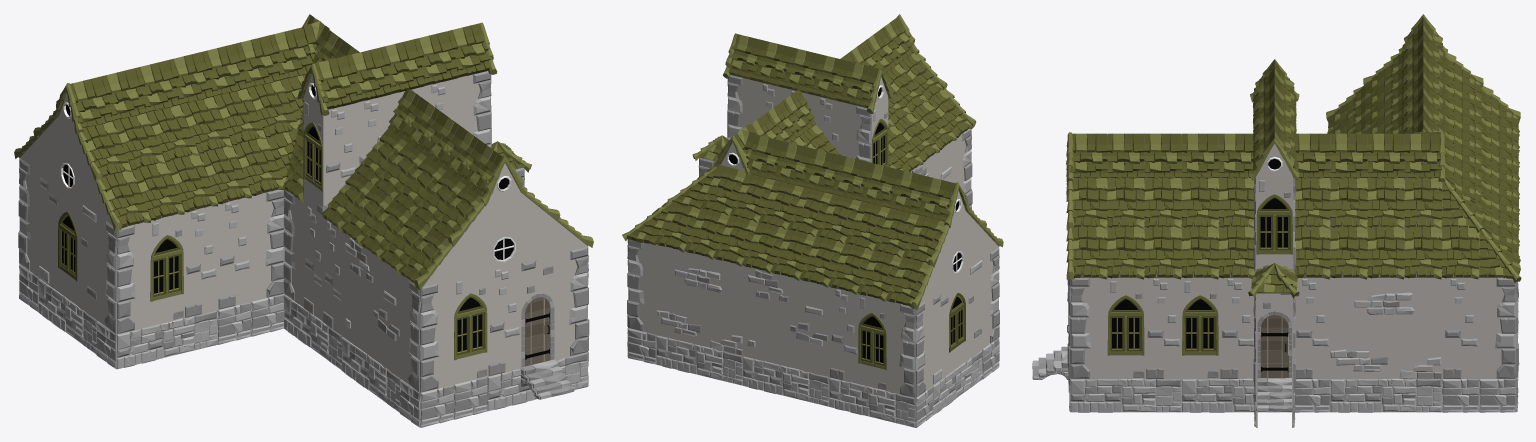
The model's file is hOUSE_12.glb.
3 renders of one model, left to right at view 1: azimuth 30°, elevation 25°; view 2: azimuth 150°, elevation 25°; view 3: azimuth 270°, elevation 25°, orthographic. The views are drawn at different scales.
Visible parts, largest first — view 1: WINDOW_02_2, WALL_01_2, WINDOW_01_02, WALL_06_16, WALL_05_7, WALL_07_2, FOUNDATION_03_10, WALL_06_3, WALL_05_2, WALL_06_17, DOOR_01_3, WINDOW_01_07 (+78 smaller); view 2: WALL_03_3, WALL_01_3, WINDOW_02_2, WALL_06_18, FOUNDATION_03_7, FOUNDATION_03_8, FOUNDATION_03_6, WINDOW_01_08, WALL_07_9, WALL_05_9, WALL_07_8, WALL_07_3 (+62 smaller); view 3: WALL_03_2, FOUNDATION_03_5, FOUNDATION_03_3, WINDOW_01_03, WALL_06_4, WALL_06_20, WINDOW_01_04, WALL_05_3, WALL_07_10, WALL_06_15, WALL_06_5, WINDOW_01_05 (+62 smaller).
Boxes of the visible parts, left/top/right/bottom form: WINDOW_02_2: left=39, top=172, right=97, bottom=319; WALL_01_2: left=342, top=232, right=400, bottom=377; WINDOW_01_02: left=453, top=271, right=487, bottom=384; WALL_06_16: left=183, top=206, right=217, bottom=317; WALL_05_7: left=116, top=222, right=150, bottom=333; WALL_07_2: left=554, top=246, right=588, bottom=359; FOUNDATION_03_10: left=116, top=310, right=217, bottom=369; WALL_06_3: left=487, top=262, right=520, bottom=376; WALL_05_2: left=420, top=279, right=453, bottom=392; WALL_06_17: left=217, top=197, right=250, bottom=309; DOOR_01_3: left=521, top=254, right=554, bottom=367; WINDOW_01_07: left=150, top=214, right=183, bottom=325; WALL_03_3: left=656, top=244, right=743, bottom=355; WALL_01_3: left=743, top=265, right=829, bottom=376; WINDOW_02_2: left=932, top=259, right=982, bottom=385; WALL_06_18: left=829, top=287, right=858, bottom=383; FOUNDATION_03_7: left=743, top=356, right=829, bottom=406; FOUNDATION_03_8: left=829, top=377, right=915, bottom=427; FOUNDATION_03_6: left=656, top=335, right=743, bottom=385; WINDOW_01_08: left=858, top=293, right=886, bottom=390; WALL_07_9: left=887, top=300, right=915, bottom=397; WALL_05_9: left=627, top=239, right=656, bottom=334; WALL_07_8: left=982, top=247, right=999, bottom=348; WALL_07_3: left=843, top=102, right=872, bottom=162; WALL_03_2: left=1330, top=277, right=1441, bottom=378; FOUNDATION_03_5: left=1330, top=378, right=1441, bottom=412; FOUNDATION_03_3: left=1070, top=378, right=1181, bottom=412; WINDOW_01_03: left=1107, top=277, right=1144, bottom=378; WALL_06_4: left=1144, top=277, right=1181, bottom=378; WALL_06_20: left=1442, top=277, right=1479, bottom=378; WINDOW_01_04: left=1181, top=277, right=1218, bottom=378; WALL_05_3: left=1070, top=277, right=1107, bottom=378; WALL_07_10: left=1479, top=277, right=1516, bottom=378; WALL_06_15: left=1295, top=277, right=1330, bottom=378; WALL_06_5: left=1219, top=277, right=1254, bottom=378; WINDOW_01_05: left=1256, top=176, right=1292, bottom=269.
Bounding box in the file's own units: 11.32 × 8.14 × 13.16.
Materials: 1 (1 with a texture image).
